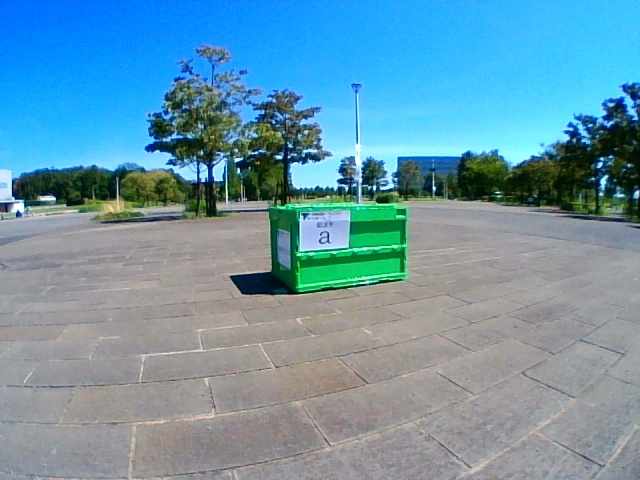green_box: (269, 203, 408, 293)
tag_a: (301, 212, 348, 247)
